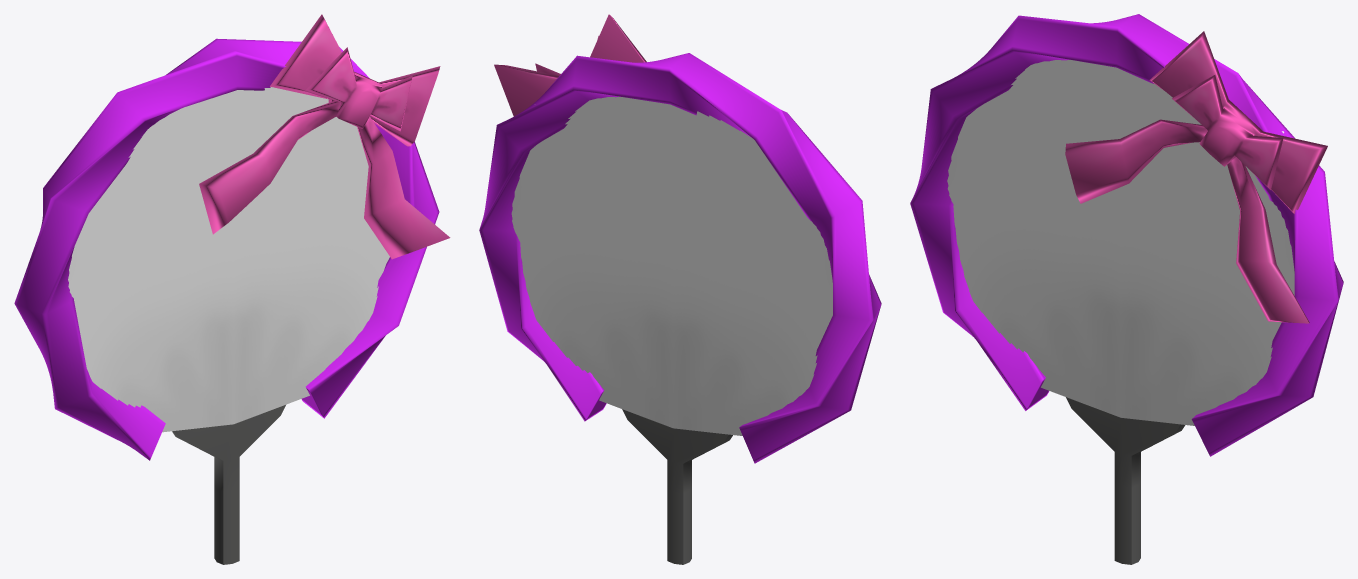
Rendered from utiwa_export.fbx.
The picture shows the model from 3 angles, left to right: view 1: azimuth 30°, elevation 25°; view 2: azimuth 150°, elevation 25°; view 3: azimuth 330°, elevation 25°; orthographic projection. The views are drawn at different scales.
Visible parts, largest first — view 1: pCube2, pCube4, pCube3, pCube5; view 2: pCube2, pCube4, pCube5, pCube3; view 3: pCube2, pCube4, pCube3, pCube5.
Part boxes in pixels (x1,y1,x2,y2): pCube2: (68, 87, 389, 432); pCube4: (14, 38, 439, 460); pCube3: (199, 14, 450, 259); pCube5: (172, 405, 285, 564); pCube2: (511, 96, 832, 435); pCube4: (479, 53, 881, 463); pCube5: (622, 409, 732, 564); pCube3: (494, 14, 646, 116); pCube2: (947, 60, 1294, 425); pCube4: (910, 14, 1343, 456); pCube3: (1065, 31, 1327, 323); pCube5: (1066, 397, 1185, 564).
Bounding box in the file's own units: 10.55 × 13.03 × 1.77.
